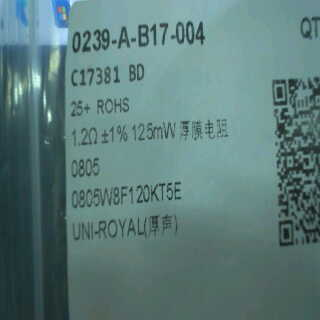1.2R: (66, 125, 99, 182)
